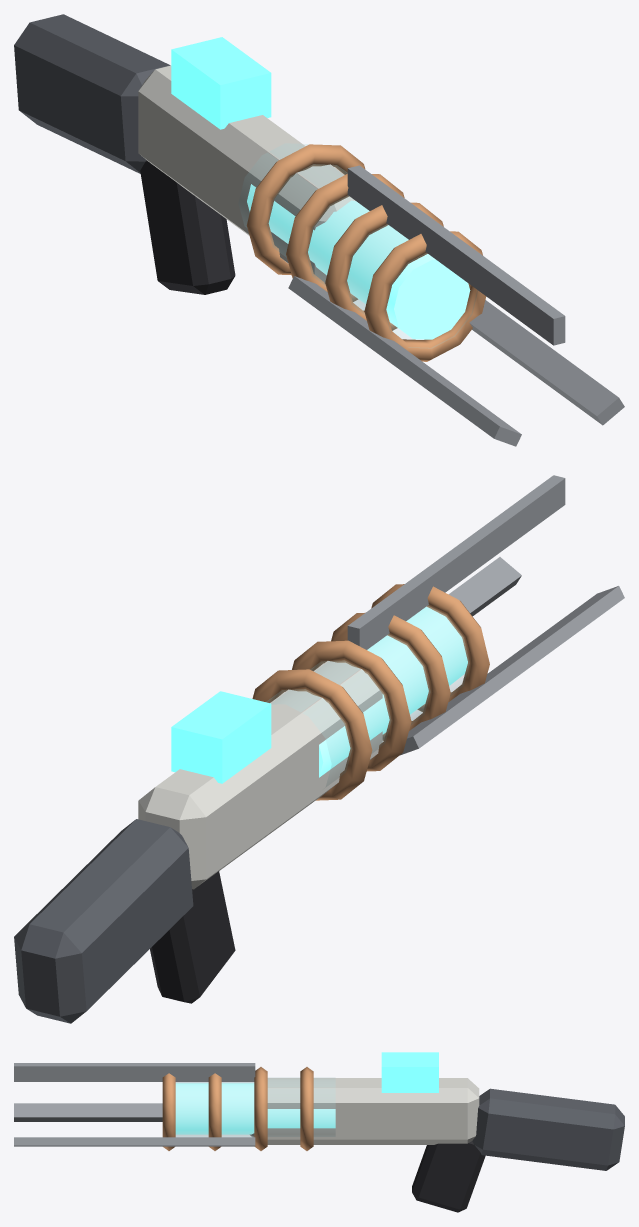
Rendered from weapon_plasma.glb.
The picture shows the model from 3 angles, top to bottom: view 1: azimuth 30°, elevation 25°; view 2: azimuth 150°, elevation 25°; view 3: azimuth 270°, elevation 25°; orthographic projection. The views are drawn at different scales.
Visible parts, largest first — view 1: plasma; view 2: plasma; view 3: plasma.
Part boxes in pixels (x1,y1,x2,y2): plasma: [14, 14, 624, 446]; plasma: [14, 475, 624, 1023]; plasma: [14, 1052, 624, 1212].
Size of the model in its own units: 0.1542 by 0.2881 by 1.06.
